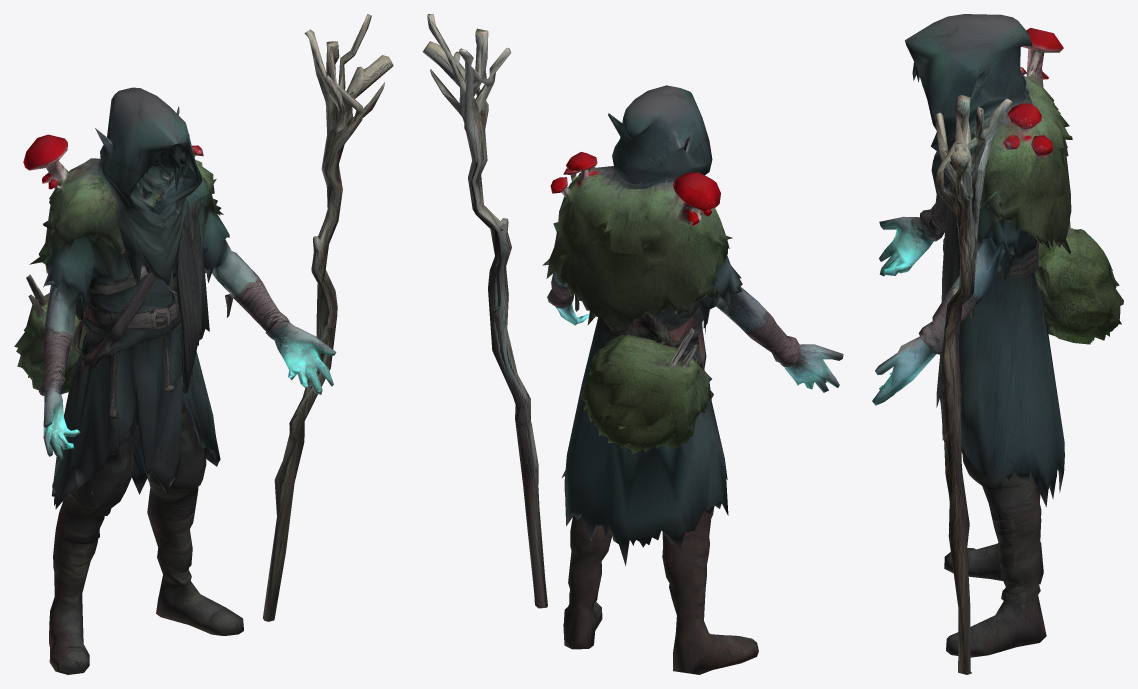
Rendered from bad_kon_willow_raw.glb.
The picture shows the model from 3 angles, left to right: view 1: azimuth 30°, elevation 25°; view 2: azimuth 150°, elevation 25°; view 3: azimuth 270°, elevation 25°; orthographic projection. The views are drawn at different scales.
Visible parts, largest first — view 1: Mesh_0; view 2: Mesh_0; view 3: Mesh_0.
Part boxes in pixels (x1,y1,x2,y2): Mesh_0: [14, 14, 393, 674]; Mesh_0: [422, 14, 843, 674]; Mesh_0: [872, 14, 1123, 674].
Size of the model in its own units: 1.33 by 1.91 by 0.7004.
Materials: 1 (1 with a texture image).
